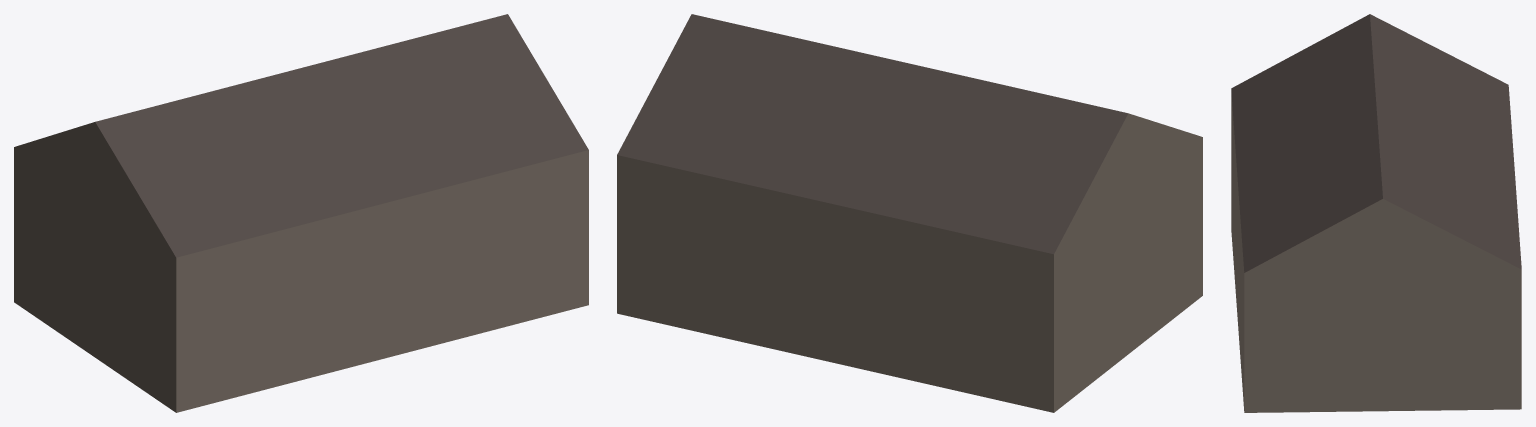
3 views of the same model, side by side, from view 1: azimuth 30°, elevation 25°; view 2: azimuth 150°, elevation 25°; view 3: azimuth 270°, elevation 25° (orthographic). The views are drawn at different scales.
Visible parts, largest first — view 1: HP-w859488912; view 2: HP-w859488912; view 3: HP-w859488912.
Boxes of the visible parts, bbox=[...] form: HP-w859488912: bbox=[14, 14, 588, 412]; HP-w859488912: bbox=[617, 14, 1202, 412]; HP-w859488912: bbox=[1231, 14, 1521, 412].
Size of the model in its own units: 17.32 by 9.12 by 11.3.
